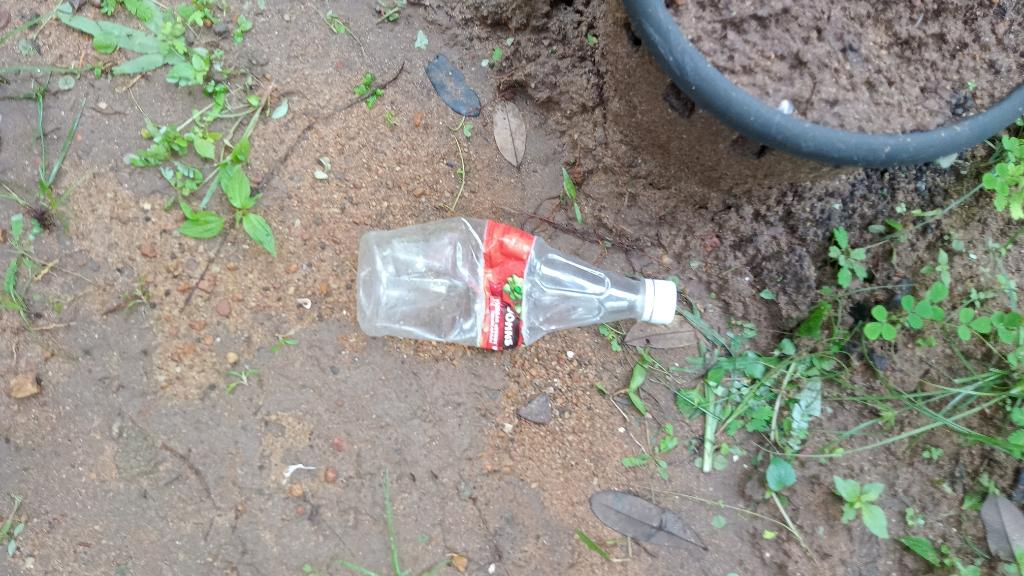garbage: (338, 187, 681, 386)
